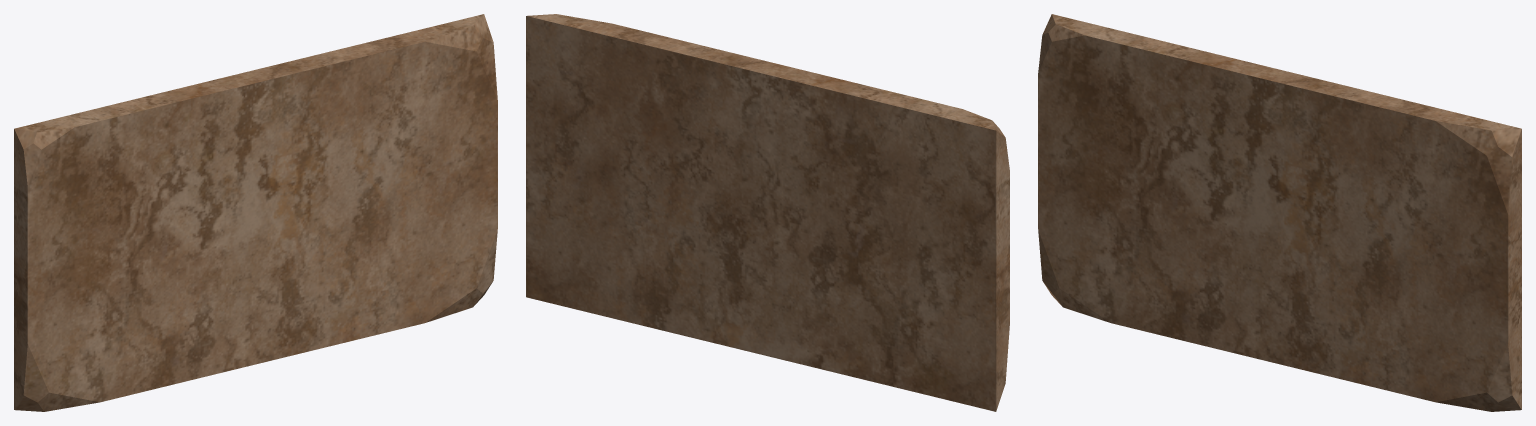
The model's file is Drawer Cover .fbx.
3 views of the same model, side by side, from view 1: azimuth 30°, elevation 25°; view 2: azimuth 150°, elevation 25°; view 3: azimuth 330°, elevation 25° (orthographic).
Parts seen in each view (by area): view 1: Tampa; view 2: Tampa; view 3: Tampa.
Boxes of the visible parts, box(x1,y1,x2,y2) form: Tampa: box(14, 14, 497, 411); Tampa: box(526, 14, 1009, 411); Tampa: box(1038, 14, 1521, 411).
Bounding box in the file's own units: 126 × 72.21 × 6.35.
1 material, 1 textured.
